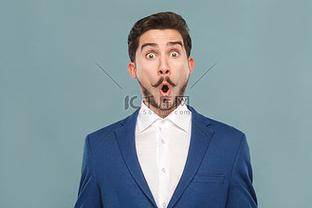张嘴: (153, 81, 175, 96)
